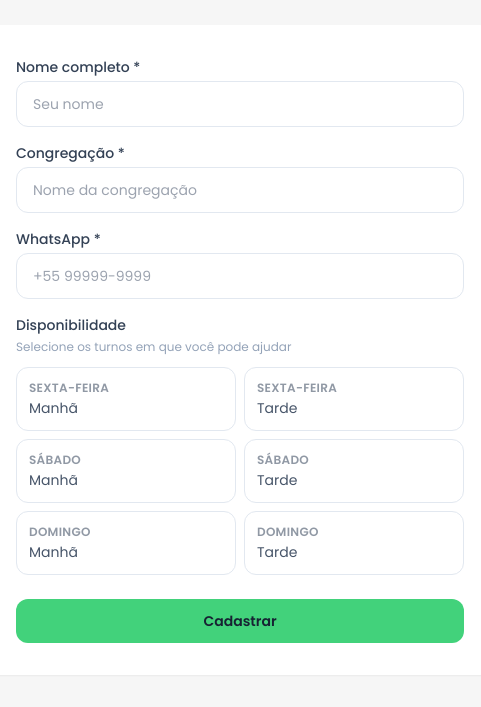
Scenario: PublicCadastro › shows validation error when submitting empty fields
(page scrolled)
Click the button "Cadastrar" at (240, 621), box top-left (16, 599), bottom-right (464, 643)
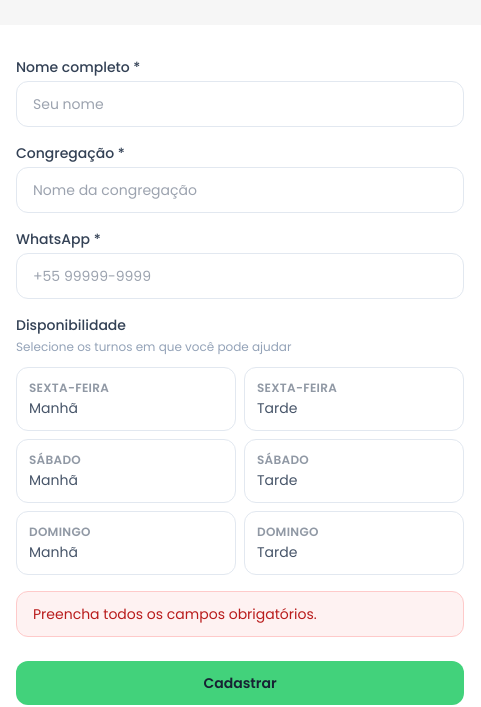
Check: the text "Preencha todos os campos obrigatórios." is shown, box top-left (16, 591), bottom-right (464, 637)
